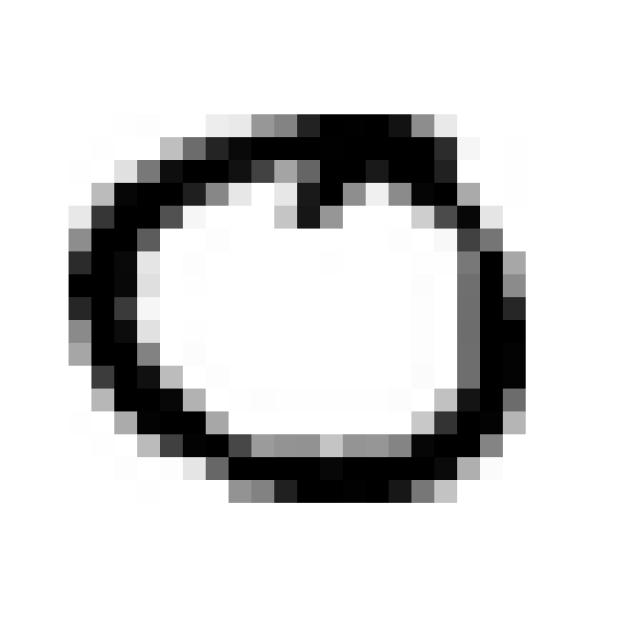5 -five-: (48, 86, 547, 522)
